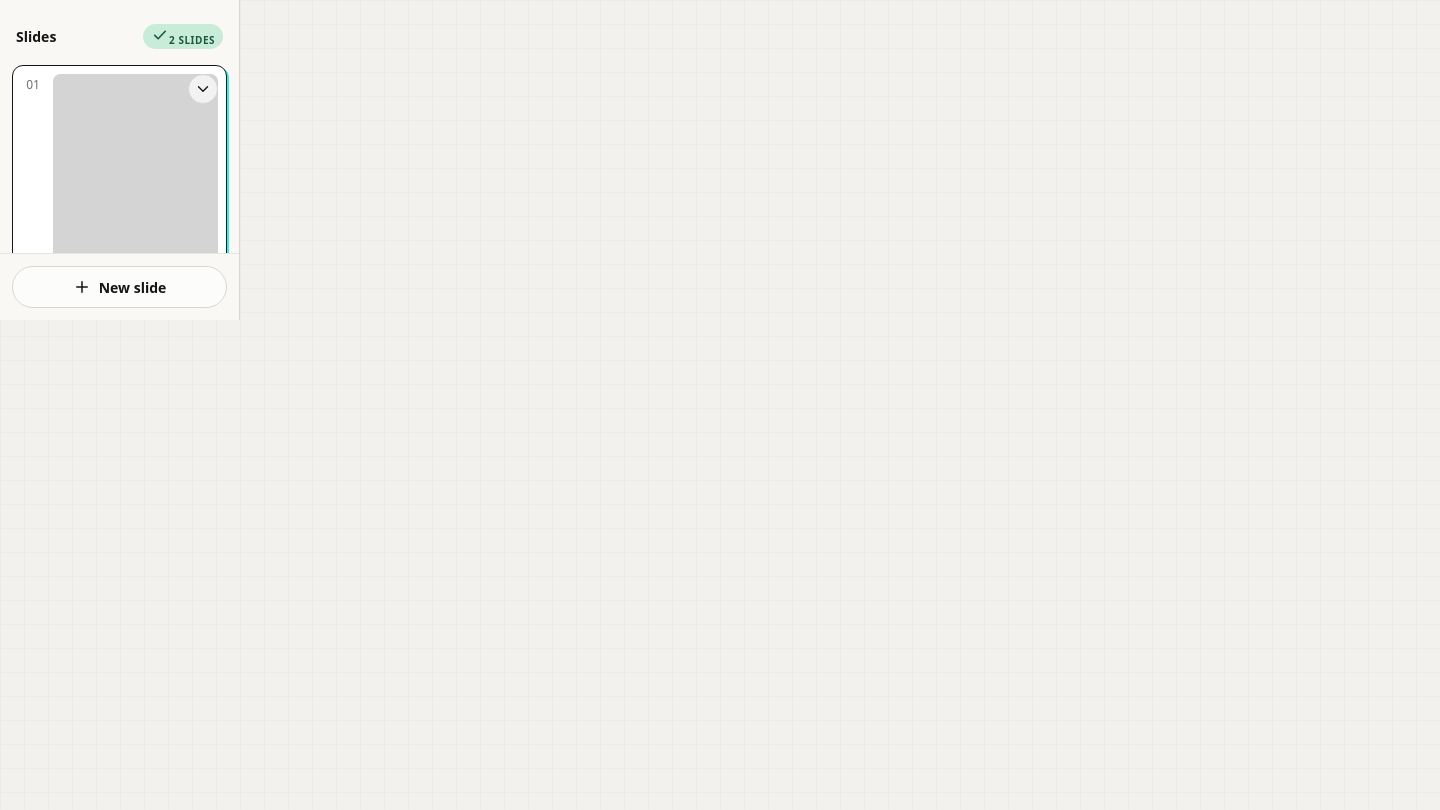
replaces a slide's background from its menu
The image size is (1440, 810).
Click the button named "Actions for slide 1" at x=203, y=89, box [188,74,218,104]
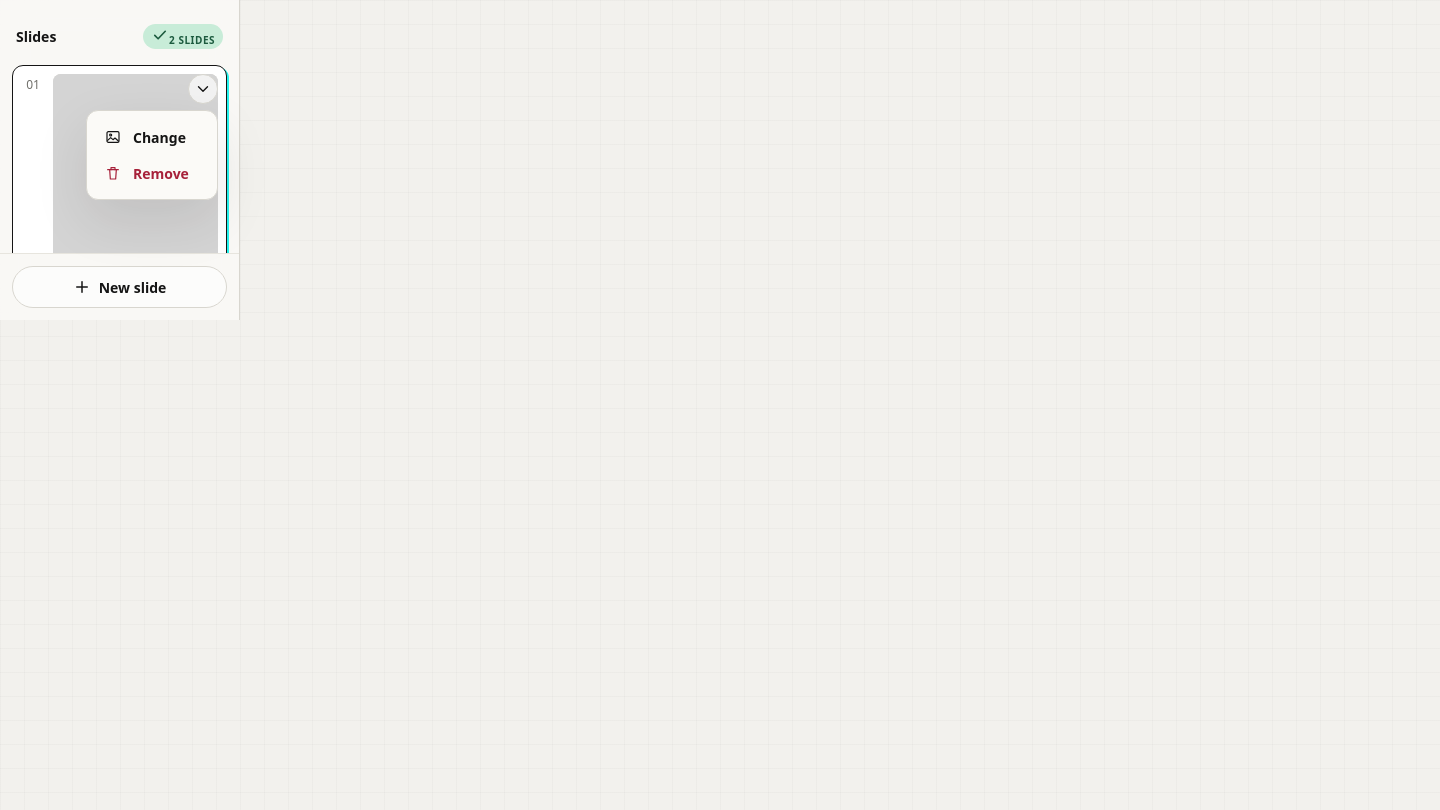
Click the menu item "Change" at x=145, y=137, box [105,128,186,146]
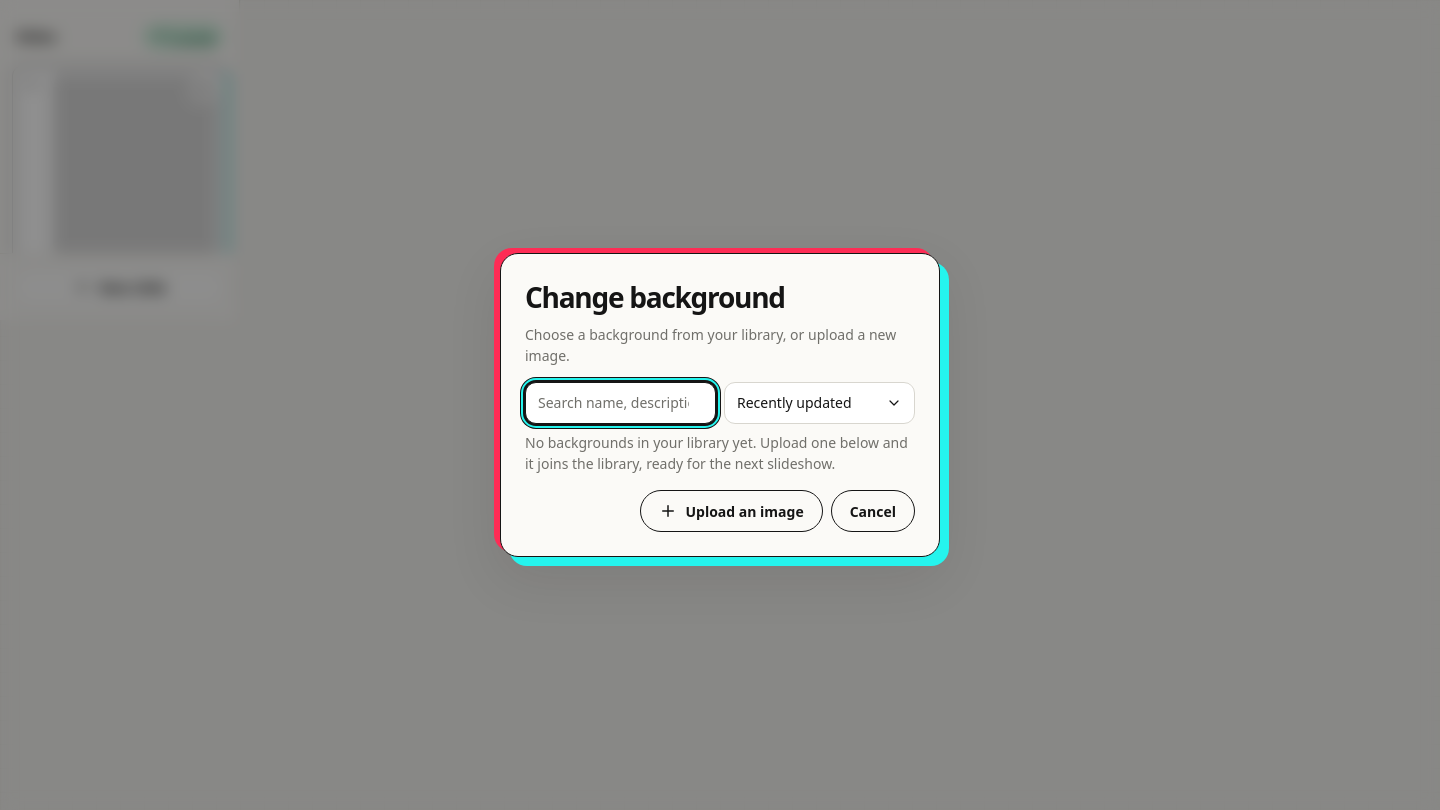
Expected: the dialog "Change background" is shown, [500,253,940,557]
